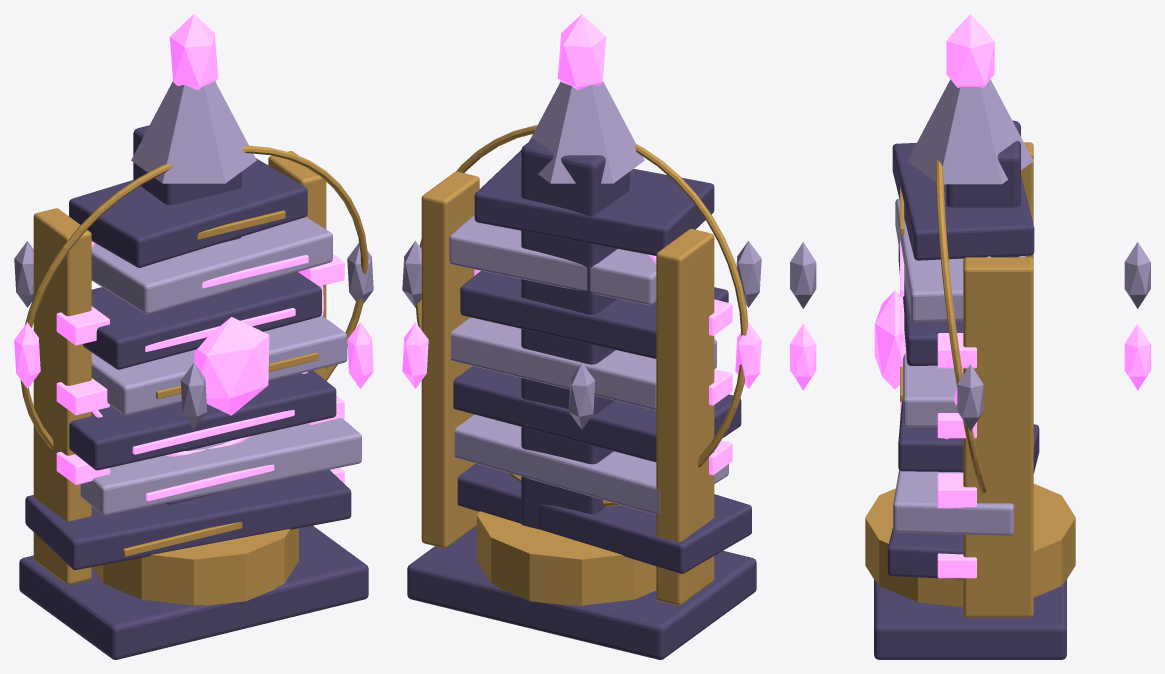
Rendered from curator_archive_monolith.glb.
The picture shows the model from 3 angles, left to right: view 1: azimuth 30°, elevation 25°; view 2: azimuth 150°, elevation 25°; view 3: azimuth 270°, elevation 25°; orthographic projection.
Visible parts, largest first — view 1: Archive_Foot, Archive_MemorySlab_0, Archive_SideFrame_-1, Archive_MemorySlab_6, Archive_MemorySlab_1, Archive_MemorySlab_5, Archive_MemorySlab_2, Archive_MemorySlab_4, Archive_Plinth, Archive_Crown, Archive_MemorySlab_3, Archive_RecordCore (+20 smaller); view 2: Archive_SideFrame_-1, Archive_Foot, Archive_Spine, Archive_SideFrame_1, Archive_MemorySlab_6, Archive_MemorySlab_0, Archive_Plinth, Archive_MemorySlab_2, Archive_MemorySlab_1, Archive_MemorySlab_5, Archive_MemorySlab_4, Archive_MemorySlab_3 (+11 smaller); view 3: Archive_SideFrame_1, Archive_Foot, Archive_MemorySlab_6, Archive_Crown, Archive_Plinth, Archive_MemorySlab_1, Archive_MemorySlab_5, Archive_MemorySlab_0, Archive_MemorySlab_3, Archive_CrownCrystal, Archive_MemorySlab_2, Archive_Spine (+13 smaller).
Boxes of the visible parts, x1=… form: Archive_Foot: x1=19, y1=525, x2=368, y2=659; Archive_MemorySlab_0: x1=25, y1=470, x2=351, y2=569; Archive_SideFrame_-1: x1=33, y1=208, x2=91, y2=584; Archive_MemorySlab_6: x1=69, y1=158, x2=307, y2=267; Archive_MemorySlab_1: x1=80, y1=418, x2=361, y2=515; Archive_MemorySlab_5: x1=91, y1=217, x2=332, y2=314; Archive_MemorySlab_2: x1=69, y1=370, x2=336, y2=470; Archive_MemorySlab_4: x1=83, y1=272, x2=321, y2=369; Archive_Plinth: x1=93, y1=528, x2=298, y2=605; Archive_Crown: x1=131, y1=81, x2=256, y2=183; Archive_MemorySlab_3: x1=91, y1=315, x2=347, y2=415; Archive_RecordCore: x1=194, y1=317, x2=269, y2=415; Archive_SideFrame_-1: x1=656, y1=229, x2=714, y2=605; Archive_Foot: x1=407, y1=526, x2=756, y2=659; Archive_Spine: x1=521, y1=139, x2=629, y2=529; Archive_SideFrame_1: x1=421, y1=171, x2=479, y2=548; Archive_MemorySlab_6: x1=474, y1=150, x2=714, y2=255; Archive_MemorySlab_0: x1=457, y1=463, x2=751, y2=573; Archive_Plinth: x1=477, y1=511, x2=656, y2=605; Archive_MemorySlab_2: x1=453, y1=366, x2=741, y2=462; Archive_MemorySlab_1: x1=454, y1=414, x2=728, y2=514; Archive_MemorySlab_5: x1=449, y1=215, x2=656, y2=305; Archive_MemorySlab_4: x1=460, y1=271, x2=728, y2=358; Archive_MemorySlab_3: x1=451, y1=317, x2=716, y2=410; Archive_SideFrame_1: x1=963, y1=257, x2=1033, y2=617; Archive_Foot: x1=874, y1=579, x2=1066, y2=659; Archive_MemorySlab_6: x1=892, y1=143, x2=1034, y2=260; Archive_Crown: x1=907, y1=79, x2=1033, y2=184; Archive_Plinth: x1=865, y1=483, x2=1075, y2=607; Archive_MemorySlab_1: x1=893, y1=470, x2=1014, y2=535; Archive_MemorySlab_5: x1=895, y1=198, x2=1025, y2=322; Archive_MemorySlab_0: x1=887, y1=424, x2=1039, y2=579; Archive_MemorySlab_3: x1=903, y1=353, x2=957, y2=427; Archive_CrownCrystal: x1=946, y1=14, x2=994, y2=88; Archive_MemorySlab_2: x1=898, y1=401, x2=963, y2=472; Archive_Spine: x1=946, y1=120, x2=1020, y2=257.
Size of the model in its own units: 4.7 by 7.35 by 4.11.
